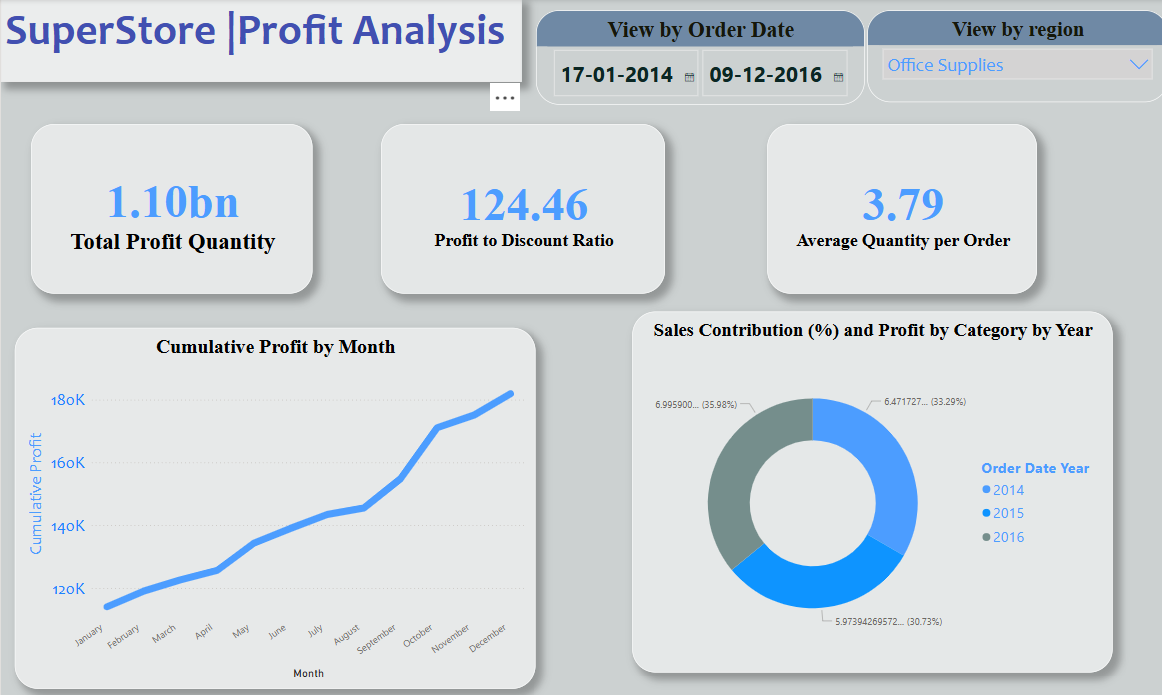

What the dashboard file says about the page in this screenshot:
{"tool":"powerbi","page":{"name":"Profit Analysis(1)","canvas":[1501,900],"ordinal":4},"visuals":[{"type":"textbox","box":[0,0,670,106],"z":0},{"type":"slicer","title":"View by Order Date","fields":{"Values":["Orders.Order Date"]},"box":[688.5,14.8,423,121.3],"z":1000},{"type":"slicer","title":"View by region","fields":{"Values":["Orders.Category"]},"box":[1114.8,14.8,386.9,118],"z":2000},{"type":"lineChart","fields":{"Y":["Orders.Cumulative Profit"],"Category":["Orders.Order Date.Variation.Date Hierarchy.Month"]},"box":[18.3,423.3,670,465],"z":3000},{"type":"donutChart","fields":{"Category":["Orders.Order Date.Variation.Date Hierarchy.Year"],"Y":["Orders.Sales Contribution (%)"]},"box":[813.3,401.7,618.3,465],"z":4000},{"type":"card","fields":{"Values":["Orders.Total Profit Quantity"]},"box":[39.3,160.7,362.3,218],"z":5000},{"type":"card","fields":{"Values":["Orders.Profit to Discount Ratio"]},"box":[488.5,160.7,365.6,218],"z":6000},{"type":"card","fields":{"Values":["Orders.Average Quantity per Order"]},"box":[986.9,160.7,347.5,218],"z":7000}]}

Visuals, with their boxes in screenshot pixels (x1, y1, x2, y2), scaled from the page's 1501x900 canvas onto the 1162x695 screenshot:
textbox: 0:0:519:82
"View by Order Date" slicer: 533:11:860:105
"View by region" slicer: 863:11:1161:103
lineChart - Orders.Cumulative Profit x Orders.Order Date.Variation.Date Hierarchy.Month: 14:327:533:686
donutChart - Orders.Order Date.Variation.Date Hierarchy.Year x Orders.Sales Contribution (%): 630:310:1108:669
card - Orders.Total Profit Quantity: 30:124:311:292
card - Orders.Profit to Discount Ratio: 378:124:661:292
card - Orders.Average Quantity per Order: 764:124:1033:292
